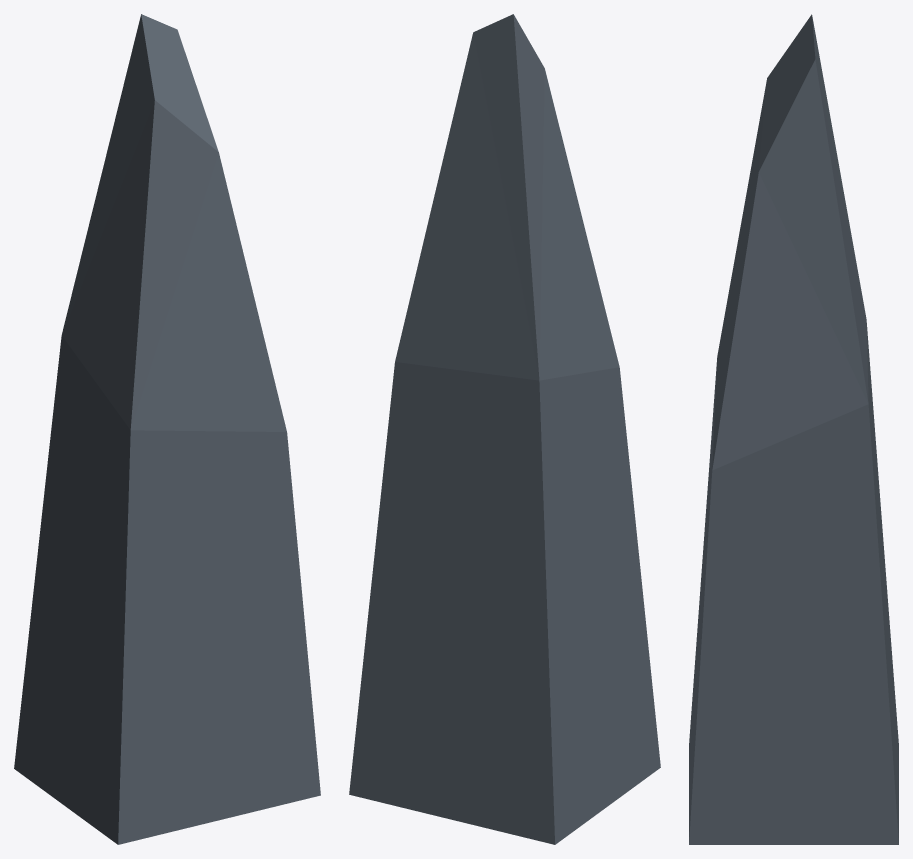
The model's file is Rock_Sharp_s_06 5.fbx.
3 renders of one model, left to right at view 1: azimuth 30°, elevation 25°; view 2: azimuth 150°, elevation 25°; view 3: azimuth 270°, elevation 25°, orthographic.
Visible parts, largest first — view 1: Rock_Sharp_s_06; view 2: Rock_Sharp_s_06; view 3: Rock_Sharp_s_06.
Boxes of the visible parts, x1,y1,x2,y2 form: Rock_Sharp_s_06: [14, 14, 320, 844]; Rock_Sharp_s_06: [349, 14, 660, 844]; Rock_Sharp_s_06: [689, 14, 898, 844].
Bounding box in the file's own units: 21.95 × 79.22 × 19.51.
